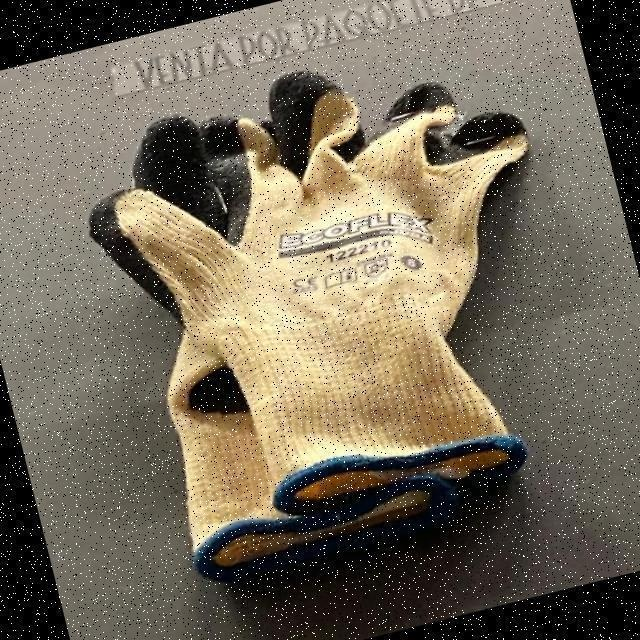Guantes: (90, 70, 531, 579)
